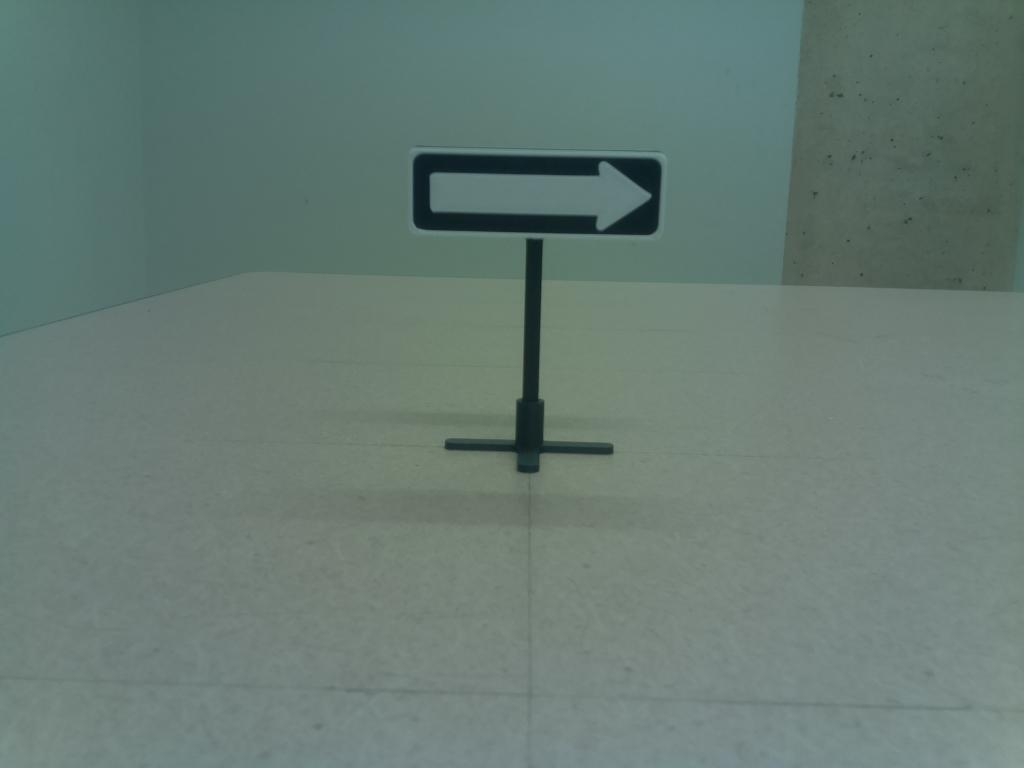sign_oneway_right: (406, 142, 674, 245)
